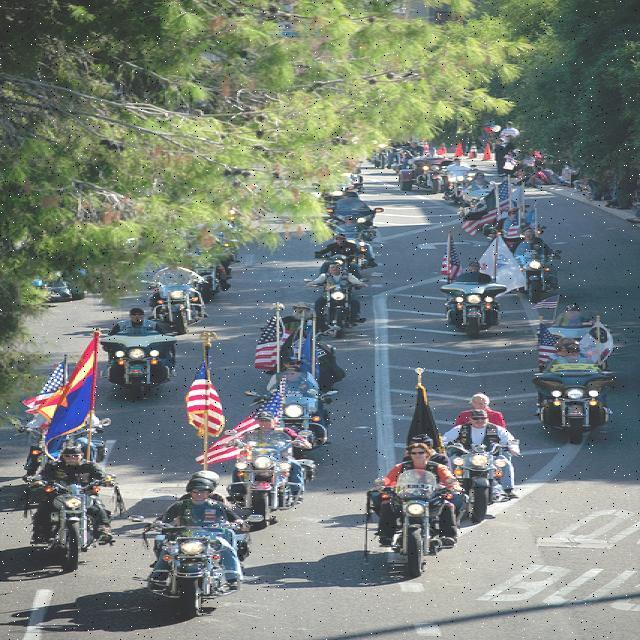motorcycle: (138, 511, 246, 617), (23, 470, 119, 575), (366, 476, 456, 586), (447, 431, 517, 519)
